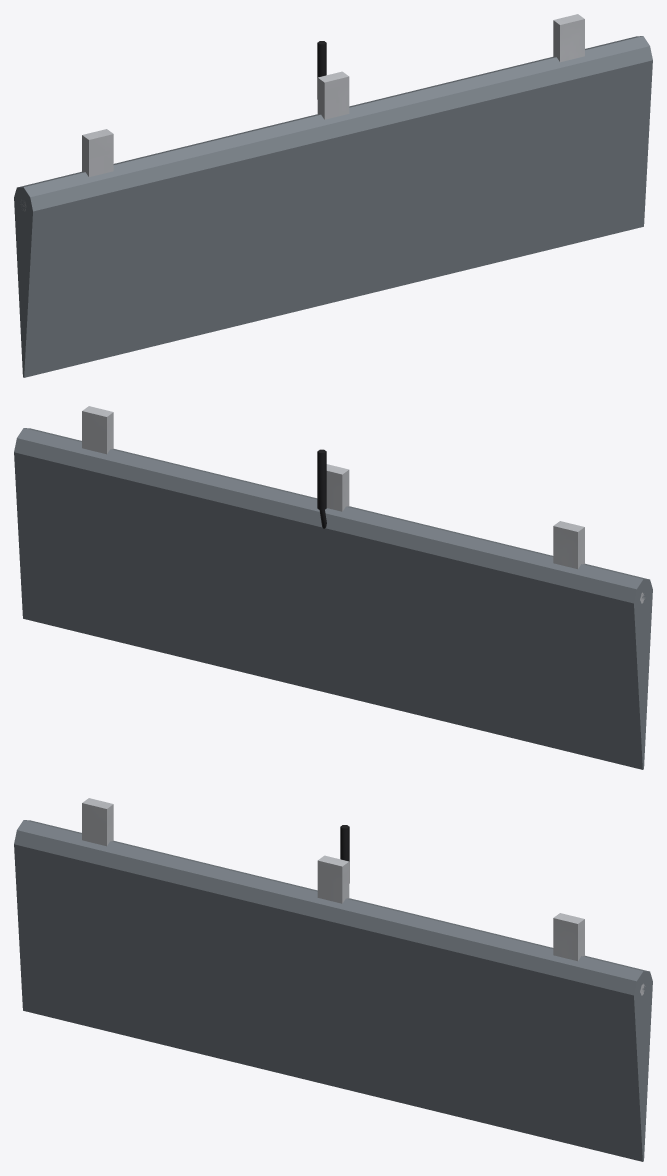
The model's file is jet09_control_surface_elevon_s.glb.
3 renders of one model, top to bottom at view 1: azimuth 30°, elevation 25°; view 2: azimuth 150°, elevation 25°; view 3: azimuth 330°, elevation 25°, orthographic.
Parts seen in each view (by area): view 1: surface, hinge_fittings; view 2: surface, hinge_fittings, actuator; view 3: surface, hinge_fittings.
Boxes of the visible parts, bbox=[...] form: surface: bbox=[14, 36, 652, 377]; hinge_fittings: bbox=[20, 14, 584, 211]; surface: bbox=[14, 428, 652, 769]; hinge_fittings: bbox=[82, 406, 644, 603]; actuator: bbox=[317, 449, 326, 528]; surface: bbox=[14, 820, 652, 1161]; hinge_fittings: bbox=[82, 798, 645, 995].
Size of the model in its own units: 1.5 by 0.58 by 0.0976.
Materials: 3 (1 with a texture image).
